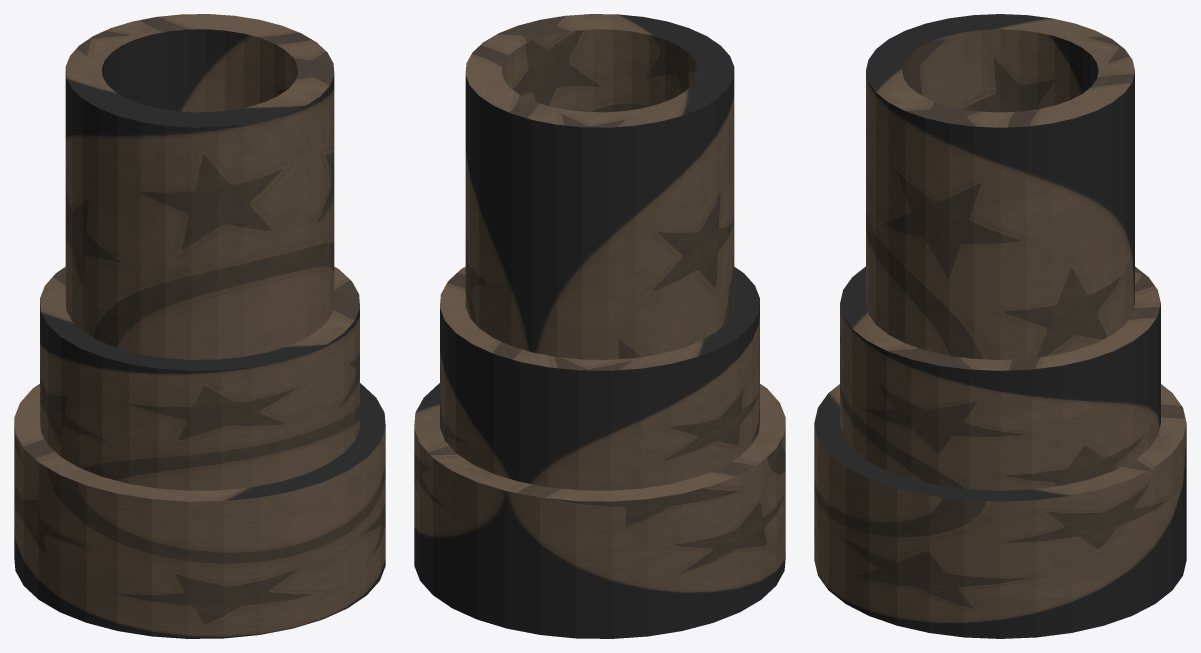
The model's file is Cannon - Copy.fbx.
3 renders of one model, left to right at view 1: azimuth 30°, elevation 25°; view 2: azimuth 150°, elevation 25°; view 3: azimuth 270°, elevation 25°, orthographic.
Parts seen in each view (by area): view 1: Cannon Body 3, Cannon Body 1, Cannon Body 2; view 2: Cannon Body 3, Cannon Body 1, Cannon Body 2; view 3: Cannon Body 3, Cannon Body 1, Cannon Body 2.
Part boxes in pixels (x1=…): Cannon Body 3: x1=65, y1=14, x2=334, y2=359; Cannon Body 1: x1=14, y1=383, x2=385, y2=638; Cannon Body 2: x1=40, y1=266, x2=359, y2=490; Cannon Body 3: x1=465, y1=14, x2=734, y2=359; Cannon Body 1: x1=414, y1=383, x2=785, y2=638; Cannon Body 2: x1=440, y1=266, x2=759, y2=490; Cannon Body 3: x1=866, y1=14, x2=1134, y2=359; Cannon Body 1: x1=814, y1=384, x2=1186, y2=638; Cannon Body 2: x1=840, y1=266, x2=1160, y2=490.
Size of the model in its own units: 123 by 178 by 123.
